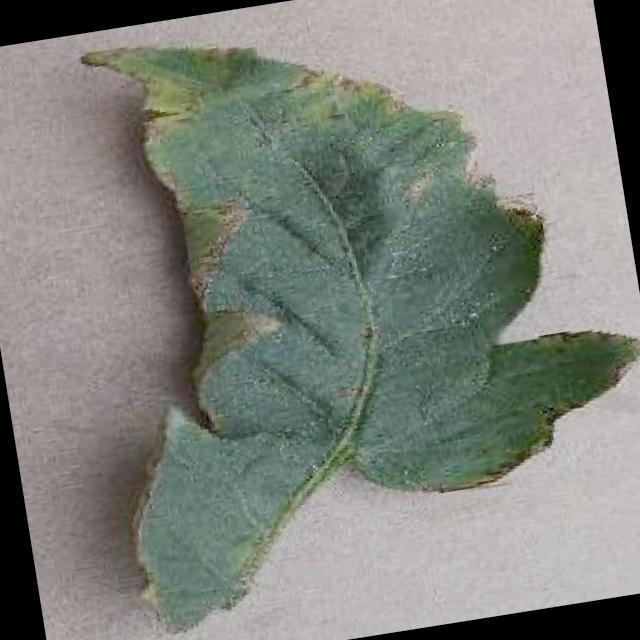Tomato bacterial spot leaf: (40, 0, 640, 640)
